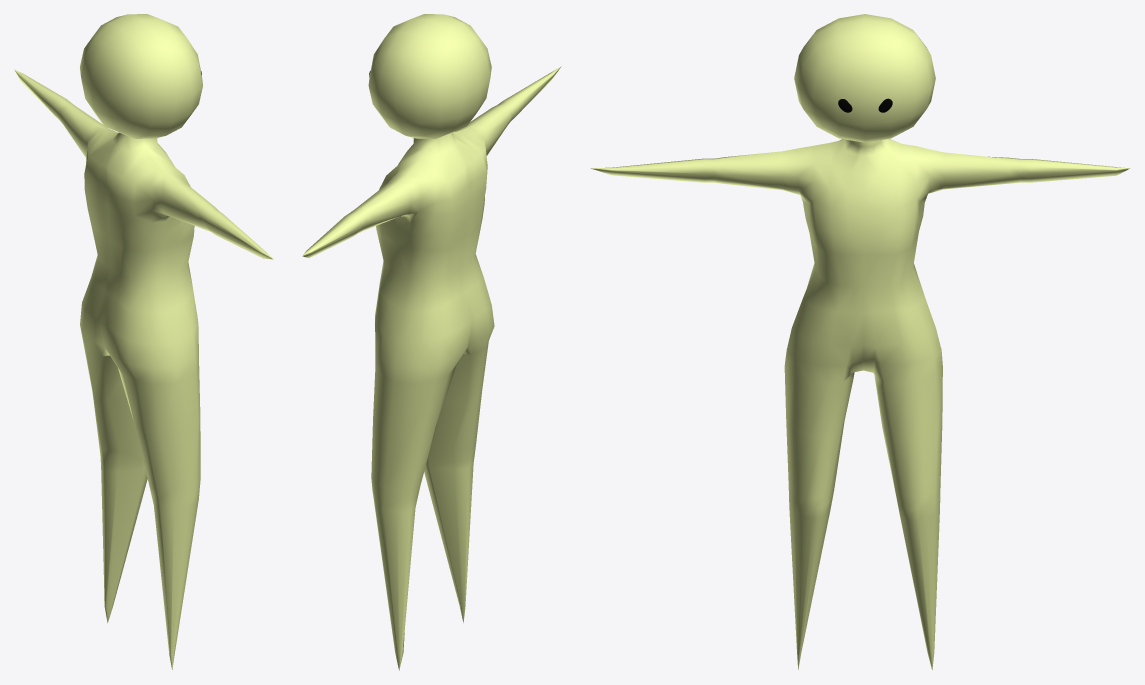
Rendered from Character_low.fbx.
The picture shows the model from 3 angles, left to right: view 1: azimuth 30°, elevation 25°; view 2: azimuth 150°, elevation 25°; view 3: azimuth 270°, elevation 25°; orthographic projection. The views are drawn at different scales.
Visible parts, largest first — view 1: Character_low; view 2: Character_low; view 3: Character_low.
Part boxes in pixels (x1,y1,x2,y2): Character_low: (14,14,273,669); Character_low: (302,14,561,670); Character_low: (591,14,1129,669).
Size of the model in its own units: 1.76 by 10.5 by 7.89.
